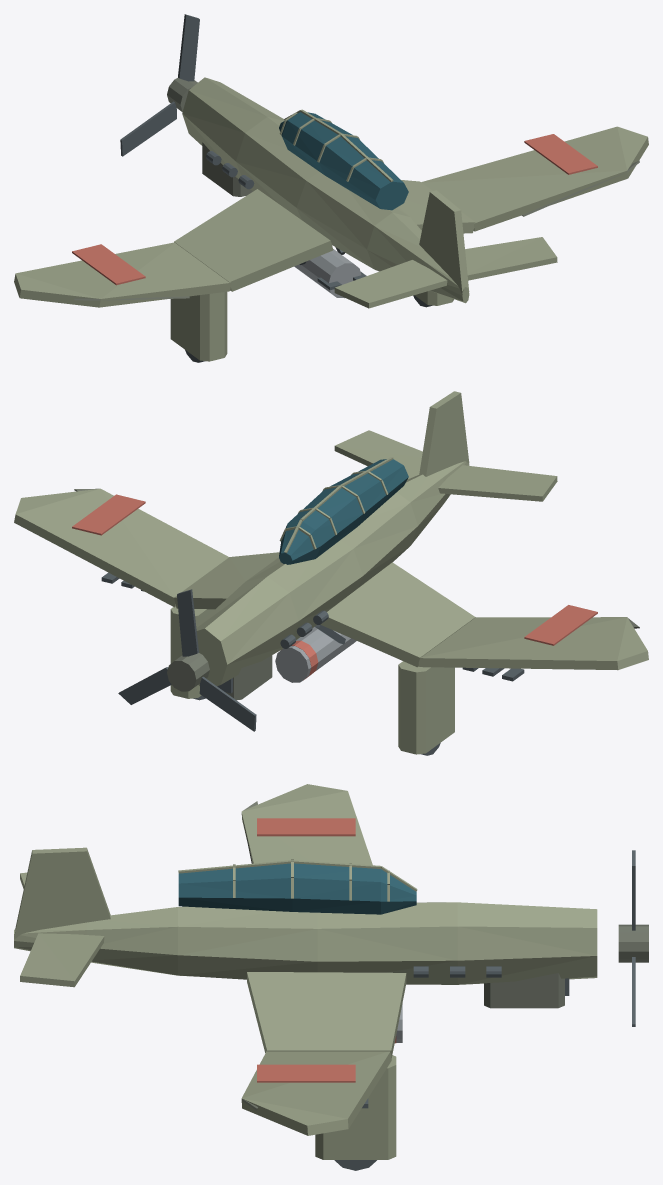
File: ENE_Ww2DiveBomber.fbx
3 views of the same model, one above another, from view 1: azimuth 30°, elevation 25°; view 2: azimuth 150°, elevation 25°; view 3: azimuth 270°, elevation 25° (orthographic). The views are drawn at different scales.
Parts seen in each view (by area): view 1: Fuselage, WingOuter.001, WingInner, WingOuter, GreenhouseCanopy, FixedGearFairing, TailFin, Tailplane, Tailplane.001, CarriedBomb, WingRecognitionStripe.001, WingRecognitionStripe (+5 smaller); view 2: Fuselage, WingOuter.001, WingOuter, WingInner, GreenhouseCanopy, FixedGearFairing, Tailplane, TailFin, WingInner.001, Tailplane.001, CarriedBomb, WingRecognitionStripe (+7 smaller); view 3: Fuselage, WingInner.001, GreenhouseCanopy, WingOuter.001, WingOuter, TailFin, FixedGearFairing.001, Tailplane.001, ChinRadiator, WingRecognitionStripe, WingRecognitionStripe.001, Spinner.
Part boxes in pixels (x1,y1,x2,y2): Fuselage: [182, 77, 469, 303]; WingOuter.001: [421, 126, 648, 231]; WingInner: [174, 189, 333, 291]; WingOuter: [14, 242, 231, 307]; GreenhouseCanopy: [279, 112, 408, 210]; FixedGearFairing: [170, 291, 227, 361]; TailFin: [419, 190, 469, 293]; Tailplane: [334, 260, 447, 308]; Tailplane.001: [465, 237, 557, 280]; CarriedBomb: [294, 249, 361, 298]; WingRecognitionStripe.001: [524, 134, 597, 174]; WingRecognitionStripe: [72, 244, 145, 285]; Fuselage: [196, 461, 469, 685]; WingOuter.001: [14, 488, 228, 607]; WingOuter: [418, 617, 648, 670]; WingInner: [320, 562, 475, 667]; GreenhouseCanopy: [279, 459, 408, 564]; FixedGearFairing: [398, 661, 454, 754]; Tailplane: [438, 465, 557, 501]; TailFin: [419, 391, 469, 476]; WingInner.001: [174, 552, 279, 609]; Tailplane.001: [334, 430, 422, 479]; CarriedBomb: [275, 627, 356, 682]; WingRecognitionStripe: [524, 605, 597, 645]; Fuselage: [14, 902, 597, 984]; WingInner.001: [247, 972, 406, 1059]; GreenhouseCanopy: [178, 863, 416, 914]; WingOuter.001: [241, 1051, 391, 1135]; WingOuter: [241, 784, 372, 865]; TailFin: [14, 847, 110, 938]; FixedGearFairing.001: [315, 1055, 396, 1159]; Tailplane.001: [20, 933, 104, 987]; ChinRadiator: [484, 973, 564, 1008]; WingRecognitionStripe: [257, 818, 355, 836]; WingRecognitionStripe.001: [257, 1064, 355, 1082]; Spinner: [618, 924, 648, 962].
Bounding box in the file's own units: 321 × 112 × 251.
